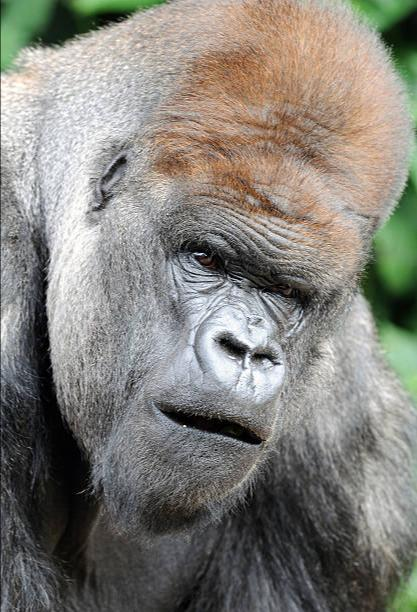gorille_Autres: (9, 4, 416, 612)
